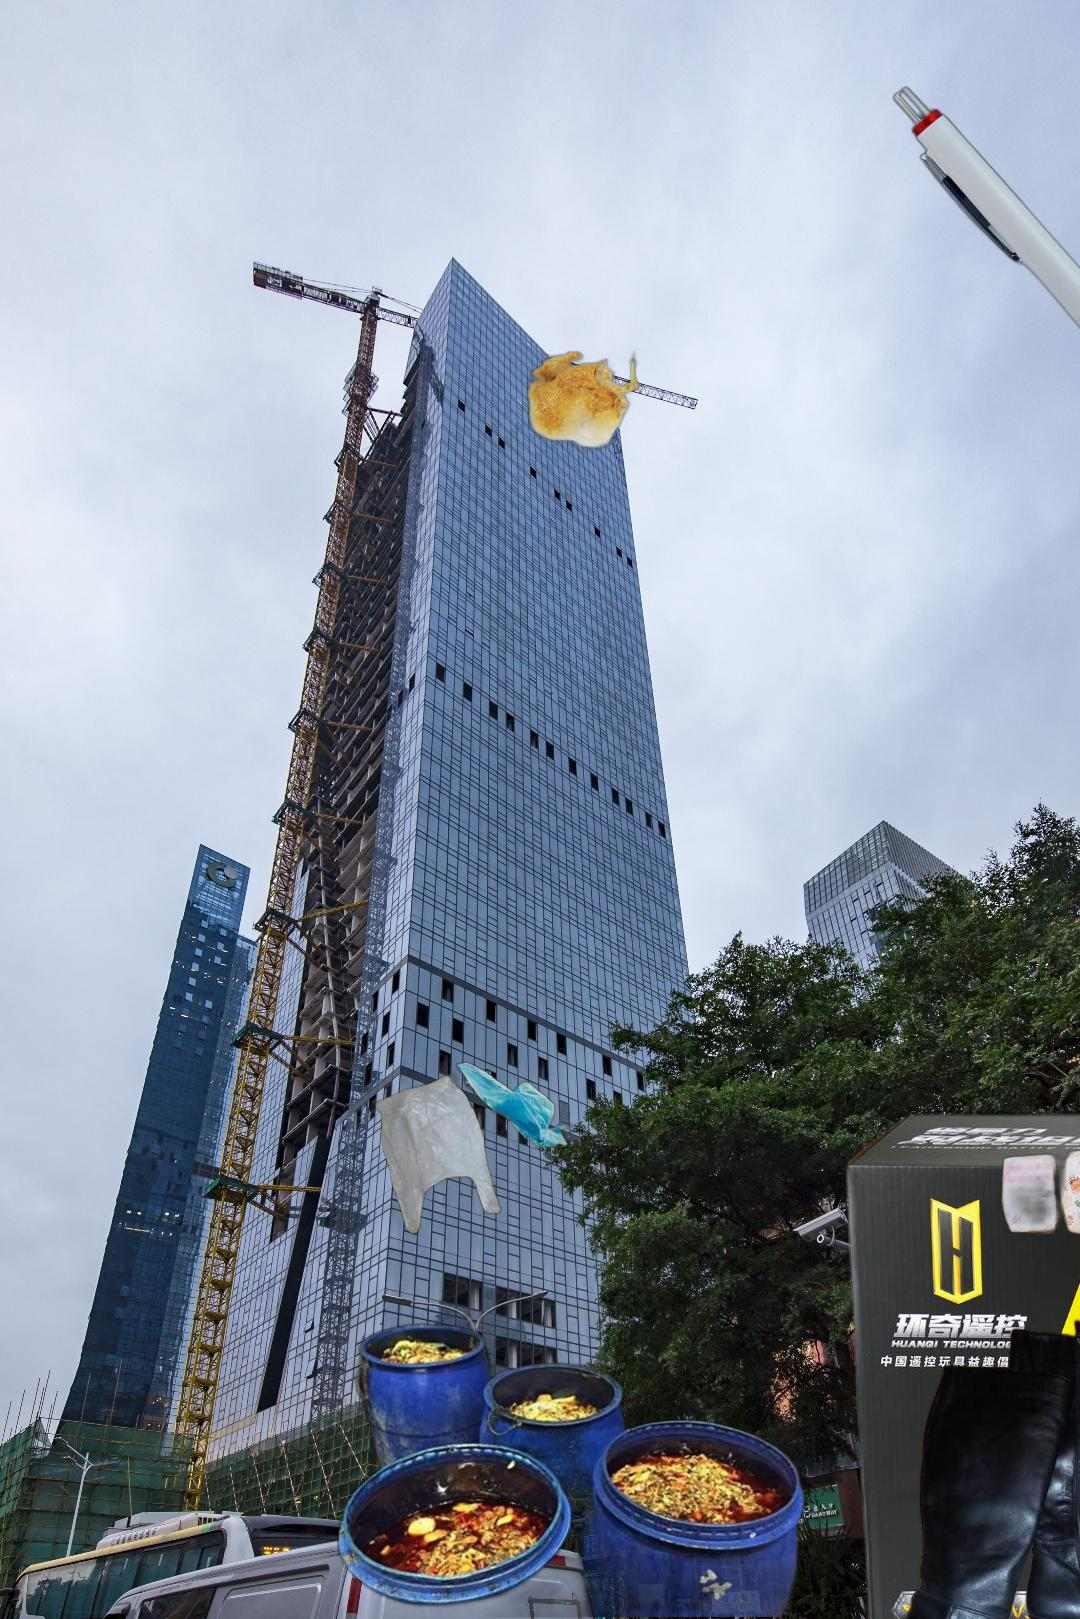battery: (841, 1105, 1080, 1619)
biological: (337, 1320, 828, 1617)
penholder: (788, 39, 1080, 469)
plastic-bag: (372, 1058, 581, 1239)
plastic-bottles: (1067, 1314, 1080, 1619)
shoes: (879, 1306, 1080, 1619)
trash: (485, 323, 642, 452), (988, 1143, 1080, 1326)
